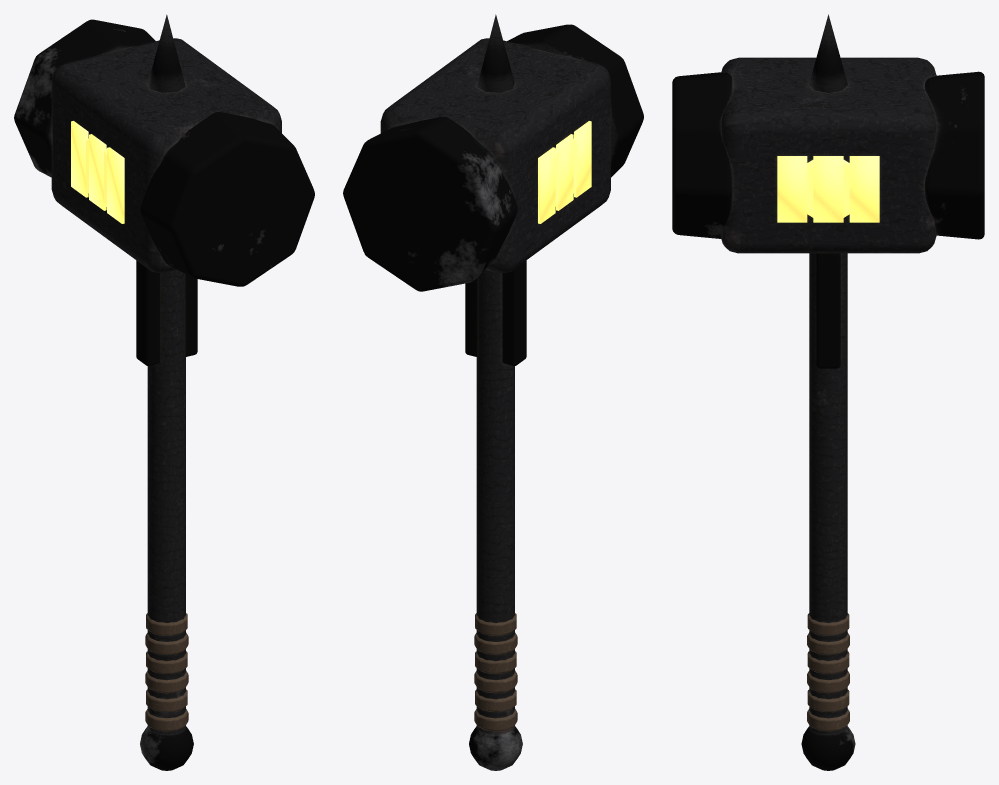
The model's file is mazo.glb.
3 renders of one model, left to right at view 1: azimuth 30°, elevation 25°; view 2: azimuth 150°, elevation 25°; view 3: azimuth 270°, elevation 25°, orthographic.
Parts seen in each view (by area): view 1: mazo; view 2: mazo; view 3: mazo.
Part boxes in pixels (x1,y1,x2,y2): mazo: (14,14,314,770); mazo: (343,14,643,770); mazo: (672,14,984,770).
Size of the model in its own units: 0.2929 by 1.39 by 0.52.
Materials: 2 (1 with a texture image).
